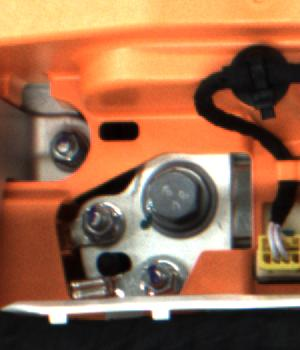nut_b: (134, 154, 235, 245)
screw_s: (81, 202, 120, 239), (135, 262, 176, 297), (47, 129, 81, 165)
